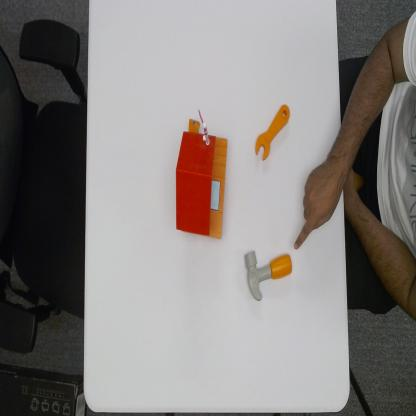Arm: (333, 19, 410, 150)
Hammer: (243, 250, 292, 302)
Hand: (292, 156, 344, 250)
House: (174, 111, 229, 241)
Screwdriver: (255, 104, 291, 163)
